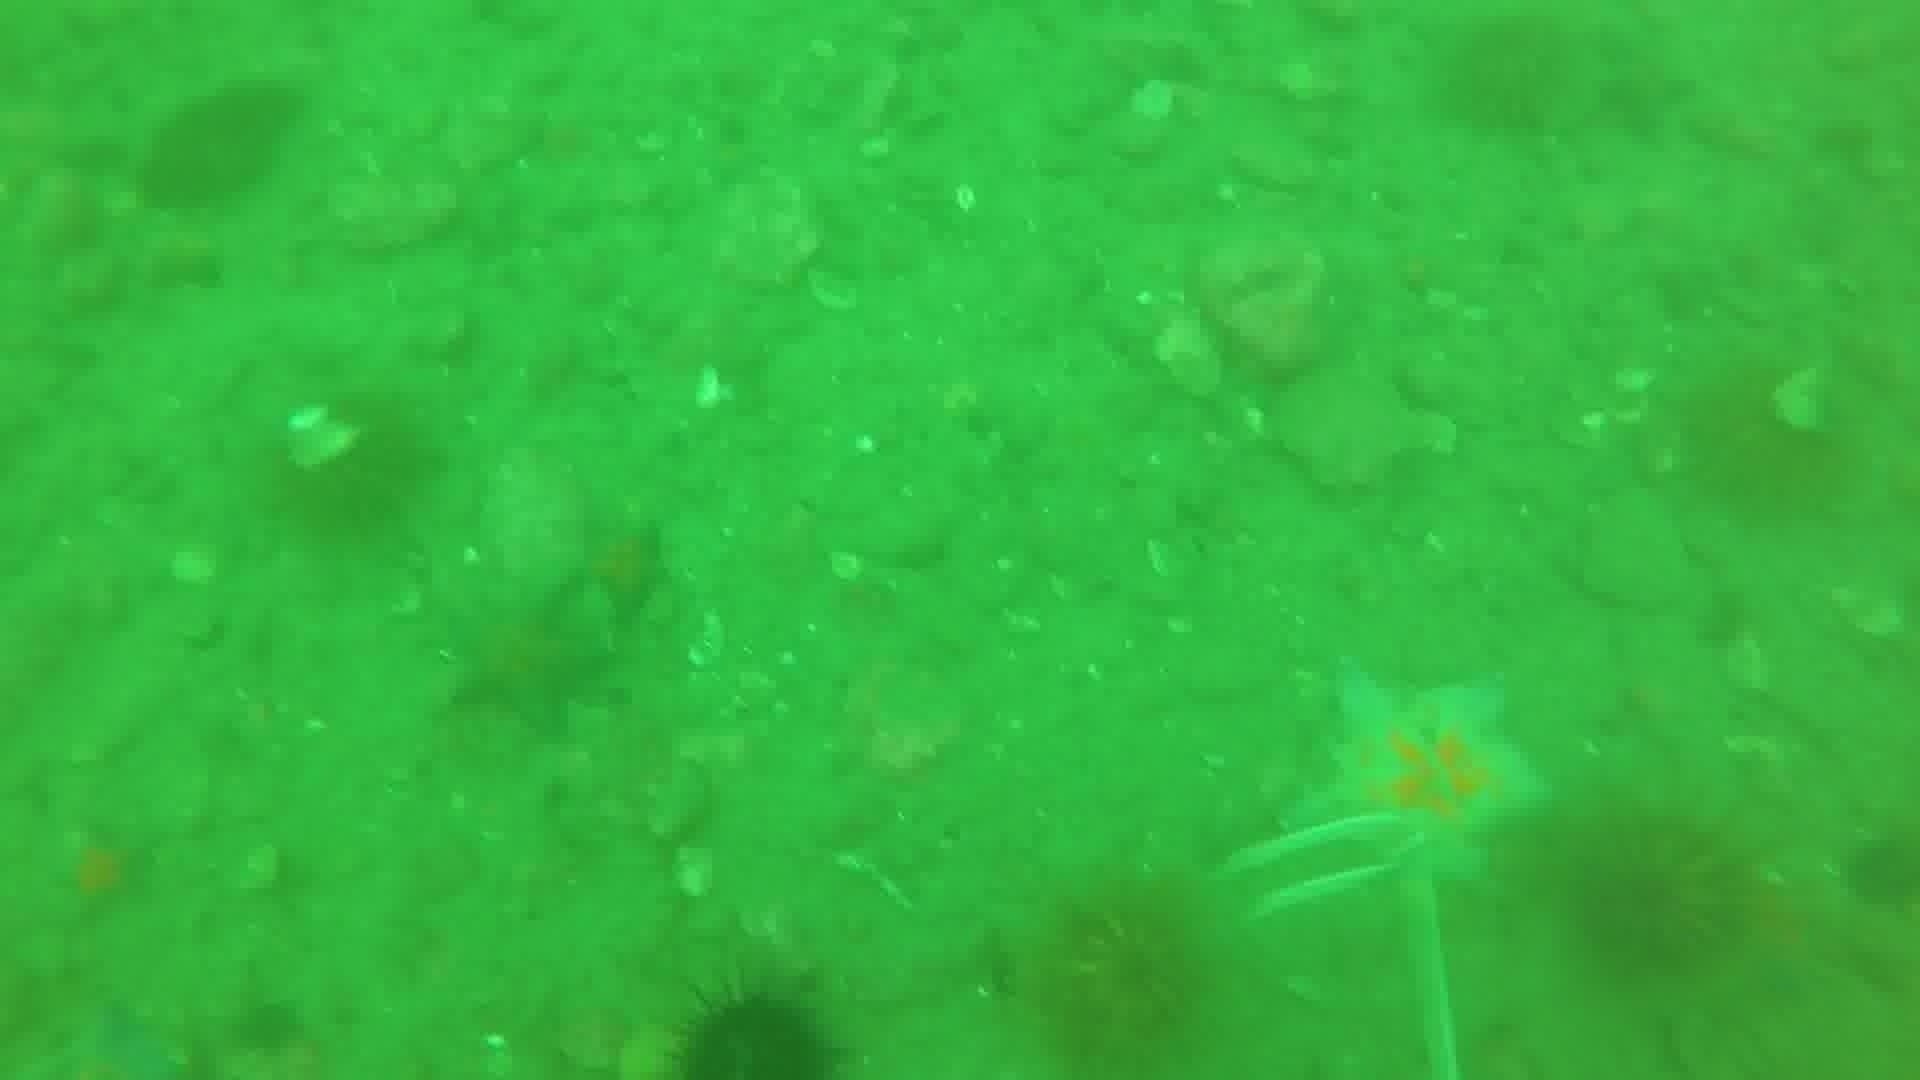echinus: (1673, 335, 1882, 526), (1029, 872, 1225, 1072), (1556, 803, 1758, 984), (257, 384, 436, 546), (135, 80, 299, 214), (1436, 15, 1594, 140), (666, 982, 841, 1079), (1838, 829, 1919, 916)
starfish: (1287, 662, 1553, 895), (438, 578, 615, 736), (42, 818, 164, 927), (567, 509, 676, 628), (44, 997, 193, 1077), (1589, 47, 1701, 142)
